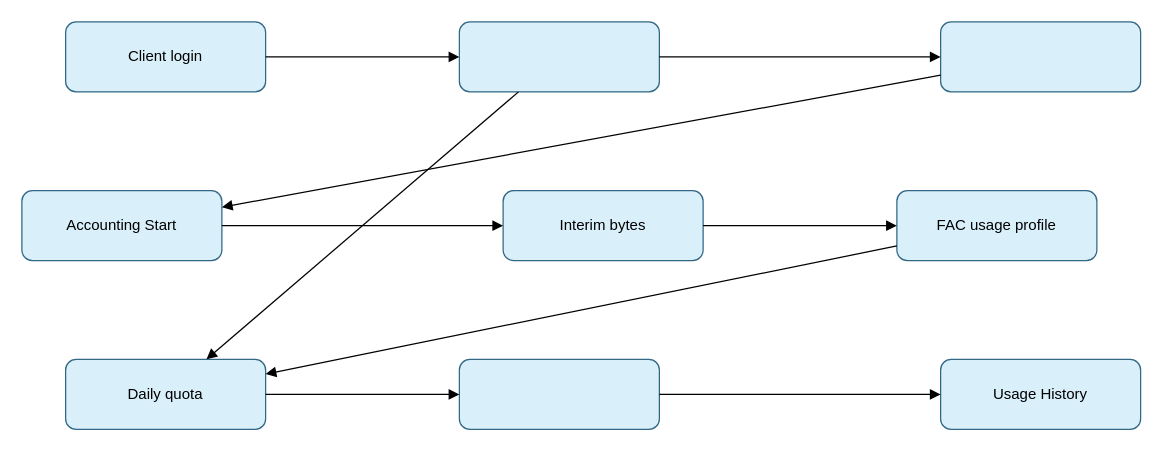
The diagram is 1163 pixels wide and 451 high, and some of its shapes have lost their labels. The centre of each missing label's shape, as x and y in pixels:
"CoA/reauth" belongs at [558,393].
"FortiGate NAS" belongs at [558,56].
"RADIUS Accept" belongs at [1040,56].
